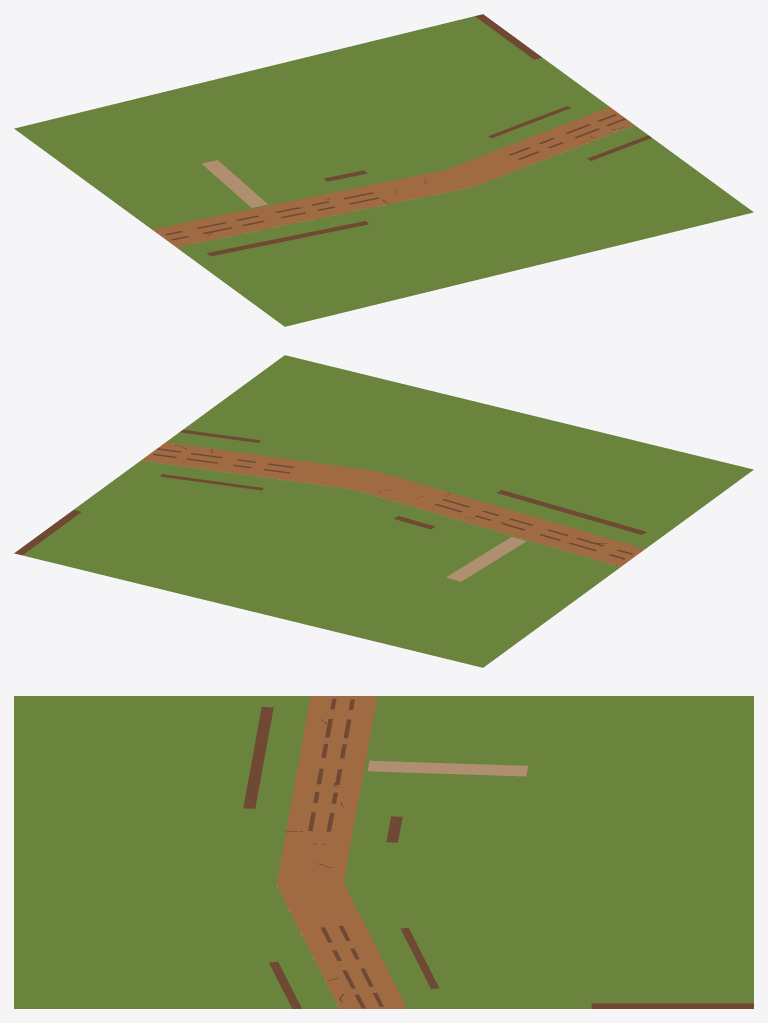
The model's file is crossing-5-6.glb.
3 views of the same model, one above another, from view 1: azimuth 30°, elevation 25°; view 2: azimuth 150°, elevation 25°; view 3: azimuth 270°, elevation 25° (orthographic). The views are drawn at different scales.
Visible parts, largest first — view 1: crossing-5-6; view 2: crossing-5-6; view 3: crossing-5-6.
Boxes of the visible parts, x1,y1,x2,y2 form: crossing-5-6: (14, 14, 753, 326); crossing-5-6: (14, 355, 753, 667); crossing-5-6: (14, 696, 753, 1008).
Bounding box in the file's own units: 100 × 0.0135 × 100.
